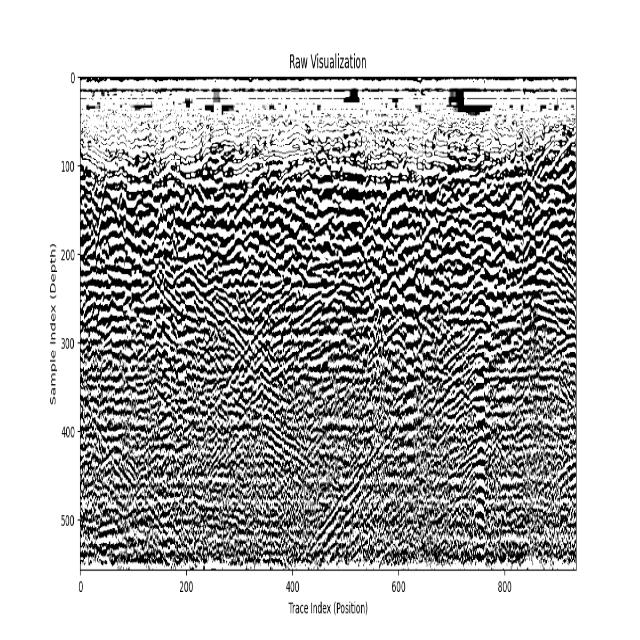anomaly: (468, 214, 487, 557), (405, 197, 418, 491)
